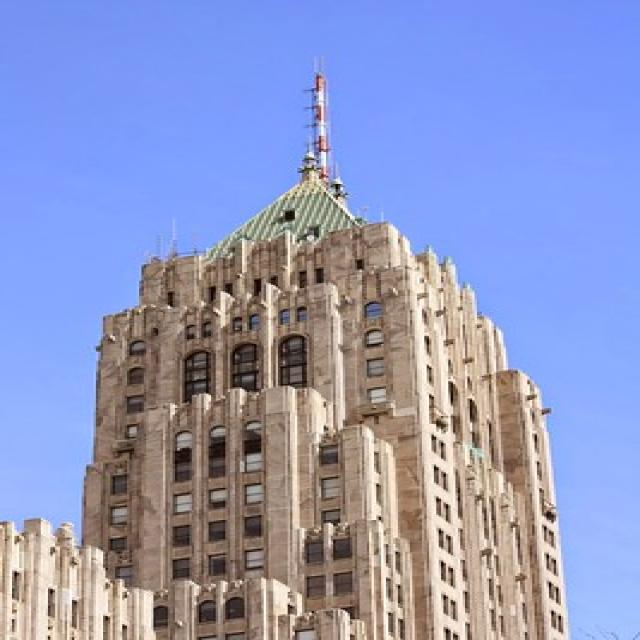building: (84, 190, 573, 640)
